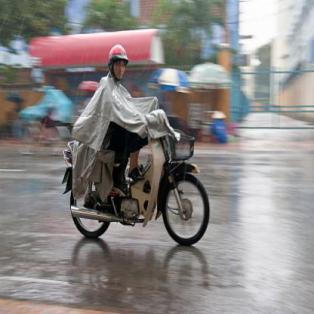Motocicleta: (60, 110, 211, 250)
